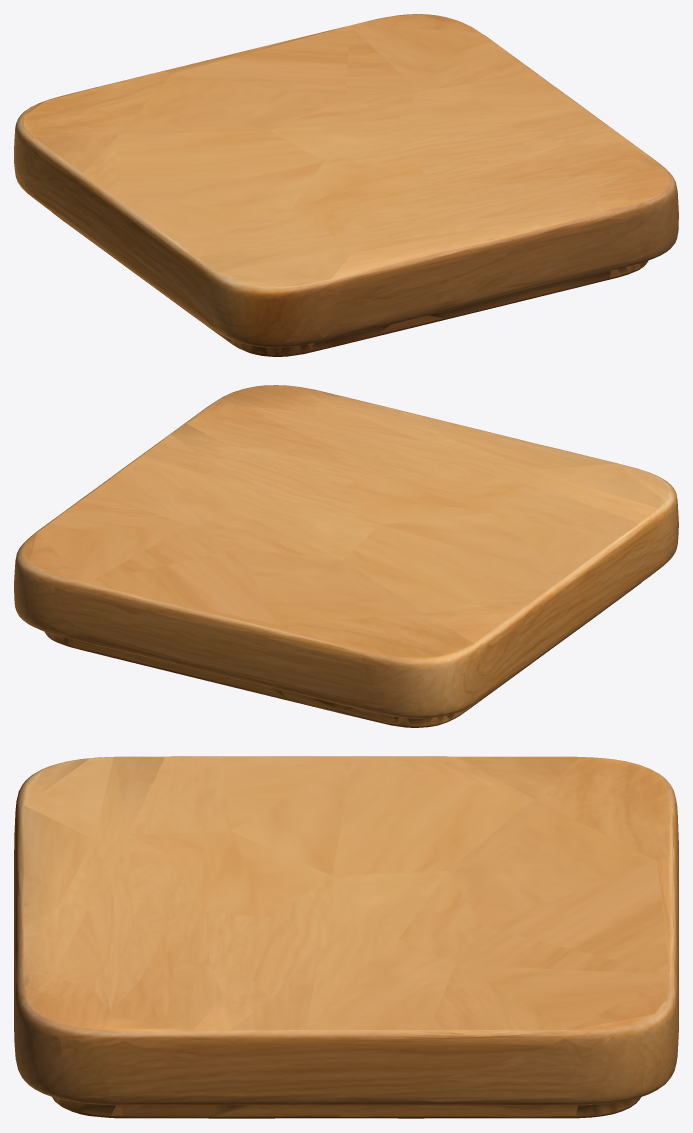
File: switch_plate.glb
3 renders of one model, top to bottom at view 1: azimuth 30°, elevation 25°; view 2: azimuth 150°, elevation 25°; view 3: azimuth 270°, elevation 25°, orthographic. The views are drawn at different scales.
Parts seen in each view (by area): view 1: tripo_node_381ecf81; view 2: tripo_node_381ecf81; view 3: tripo_node_381ecf81.
Boxes of the visible parts, left/top/right/bottom form: tripo_node_381ecf81: left=14, top=14, right=678, bottom=356; tripo_node_381ecf81: left=14, top=385, right=678, bottom=727; tripo_node_381ecf81: left=14, top=756, right=678, bottom=1118.
Size of the model in its own units: 0.39 by 0.065 by 0.39.
Materials: 1 (1 with a texture image).
